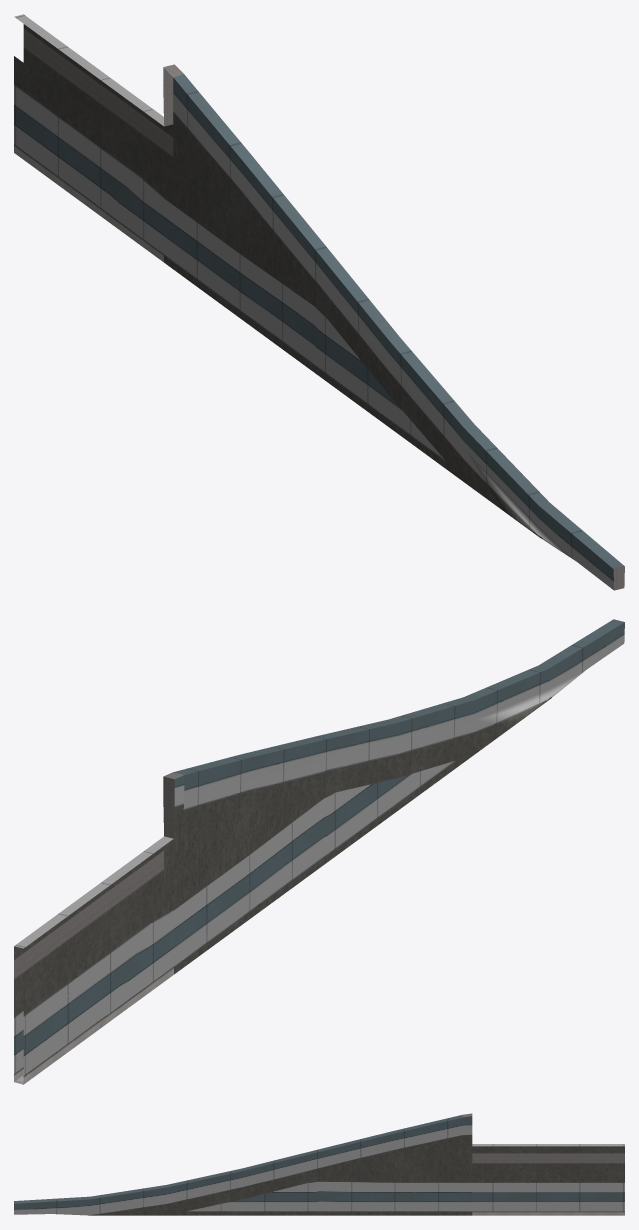
Rendered from barrier_lod.fbx.
3 views of the same model, one above another, from view 1: azimuth 30°, elevation 25°; view 2: azimuth 150°, elevation 25°; view 3: azimuth 270°, elevation 25° (orthographic). The views are drawn at different scales.
Parts seen in each view (by area): view 1: 12DR_Slope_lod.001; view 2: 12DR_Slope_lod.001; view 3: 12DR_Slope_lod.001.
Part boxes in pixels (<box>): 12DR_Slope_lod.001: <box>14,14,624,590</box>; 12DR_Slope_lod.001: <box>14,619,624,1084</box>; 12DR_Slope_lod.001: <box>14,1113,624,1215</box>.
Bounding box in the file's own units: 70 × 1151 × 6400.
